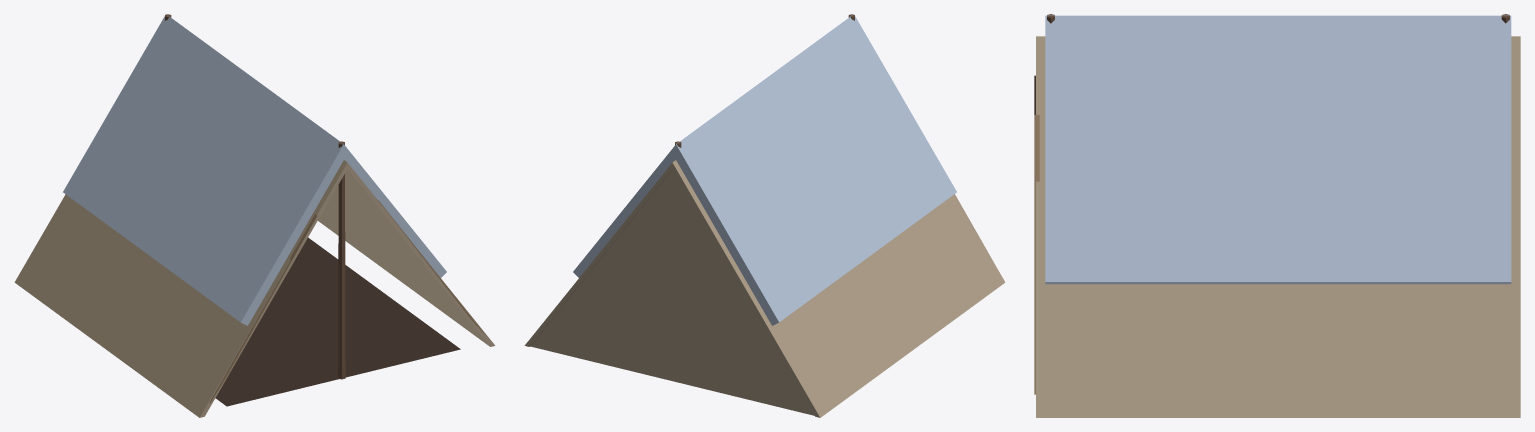
File: tent.glb
3 views of the same model, side by side, from view 1: azimuth 30°, elevation 25°; view 2: azimuth 150°, elevation 25°; view 3: azimuth 270°, elevation 25° (orthographic). The views are drawn at different scales.
Visible parts, largest first — view 1: Tent; view 2: Tent; view 3: Tent.
Part boxes in pixels (x1=…): Tent: x1=14, y1=14, x2=495, y2=417; Tent: x1=524, y1=14, x2=1005, y2=417; Tent: x1=1034, y1=14, x2=1520, y2=417.
Size of what is drawn, in the model's own units: 2.4 by 1.82 by 2.61.
